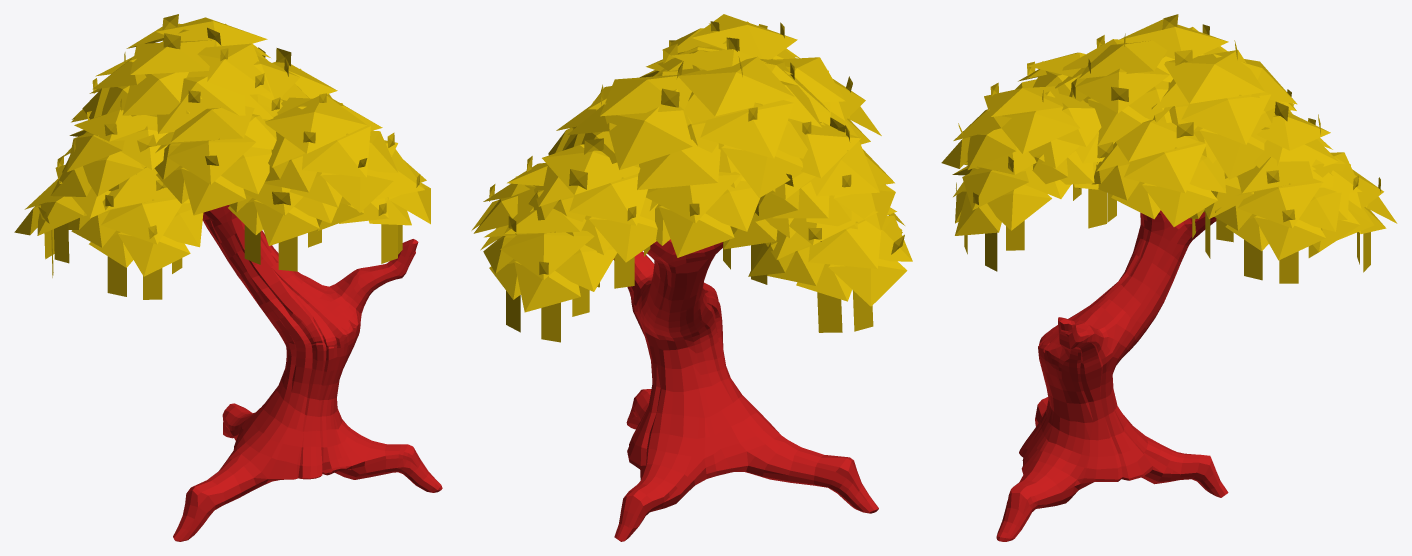
The model's file is SM_Tree_03.fbx.
3 renders of one model, left to right at view 1: azimuth 30°, elevation 25°; view 2: azimuth 150°, elevation 25°; view 3: azimuth 270°, elevation 25°, orthographic. The views are drawn at different scales.
Visible parts, largest first — view 1: SM_Tree_03; view 2: SM_Tree_03; view 3: SM_Tree_03.
Part boxes in pixels (left/top/right/bottom): SM_Tree_03: left=14, top=14, right=442, bottom=541; SM_Tree_03: left=471, top=14, right=912, bottom=541; SM_Tree_03: left=941, top=14, right=1397, bottom=541.
Bounding box in the file's own units: 969 × 1217 × 1129.
